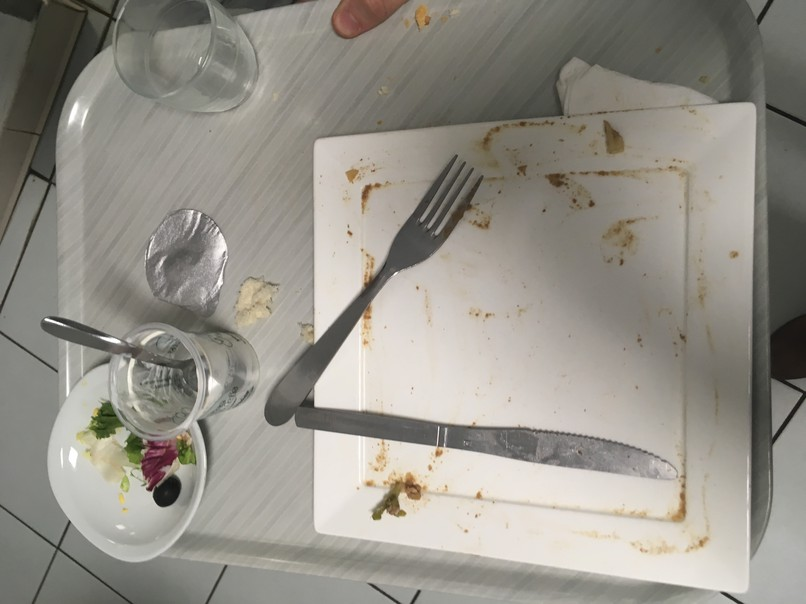cup: (102, 1, 261, 114)
cutlery: (258, 154, 492, 430), (289, 399, 691, 485), (36, 307, 218, 392)
orga: (91, 419, 189, 505)
trash: (109, 319, 268, 433), (551, 50, 720, 114), (139, 204, 233, 318)
